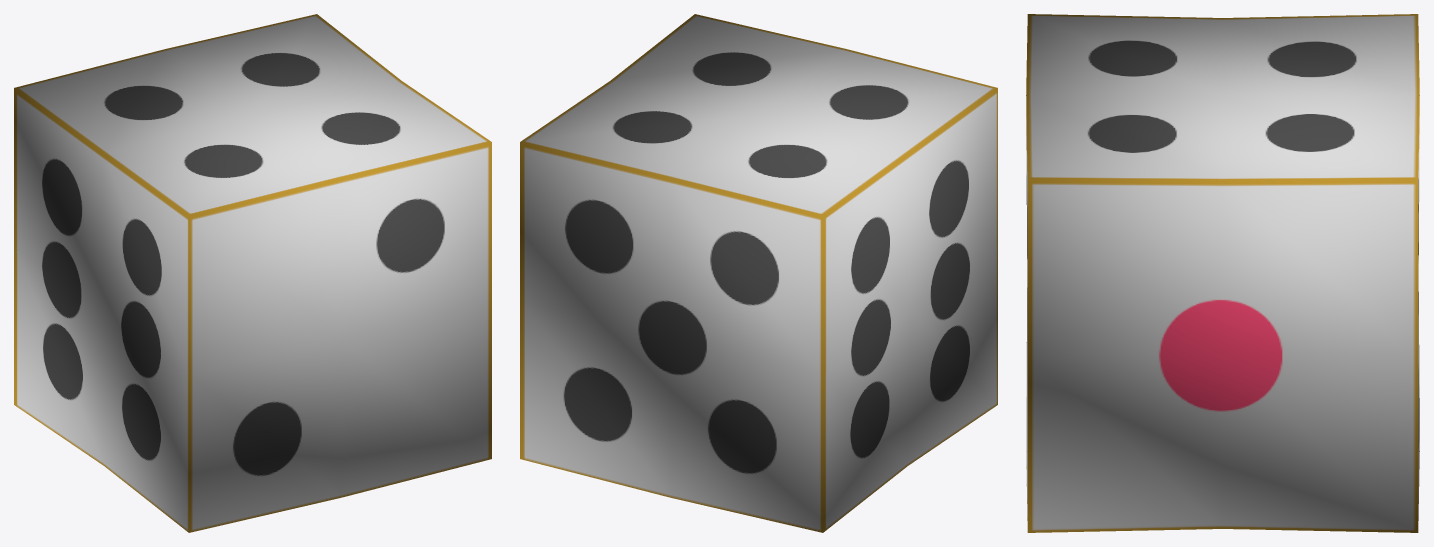
File: Dice.fbx
3 renders of one model, left to right at view 1: azimuth 30°, elevation 25°; view 2: azimuth 150°, elevation 25°; view 3: azimuth 270°, elevation 25°, orthographic. The views are drawn at different scales.
Parts seen in each view (by area): view 1: Cube; view 2: Cube; view 3: Cube.
Part boxes in pixels (bbox=[...]): Cube: bbox=[14, 14, 491, 532]; Cube: bbox=[520, 14, 997, 532]; Cube: bbox=[1026, 14, 1419, 532].
Size of the model in its own units: 112 by 112 by 112.
1 material, 1 textured.
